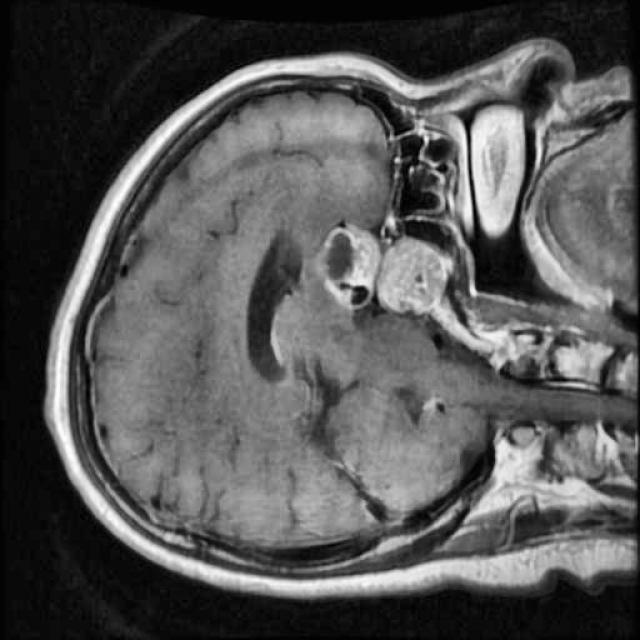Tumor: (310, 214, 458, 322)
